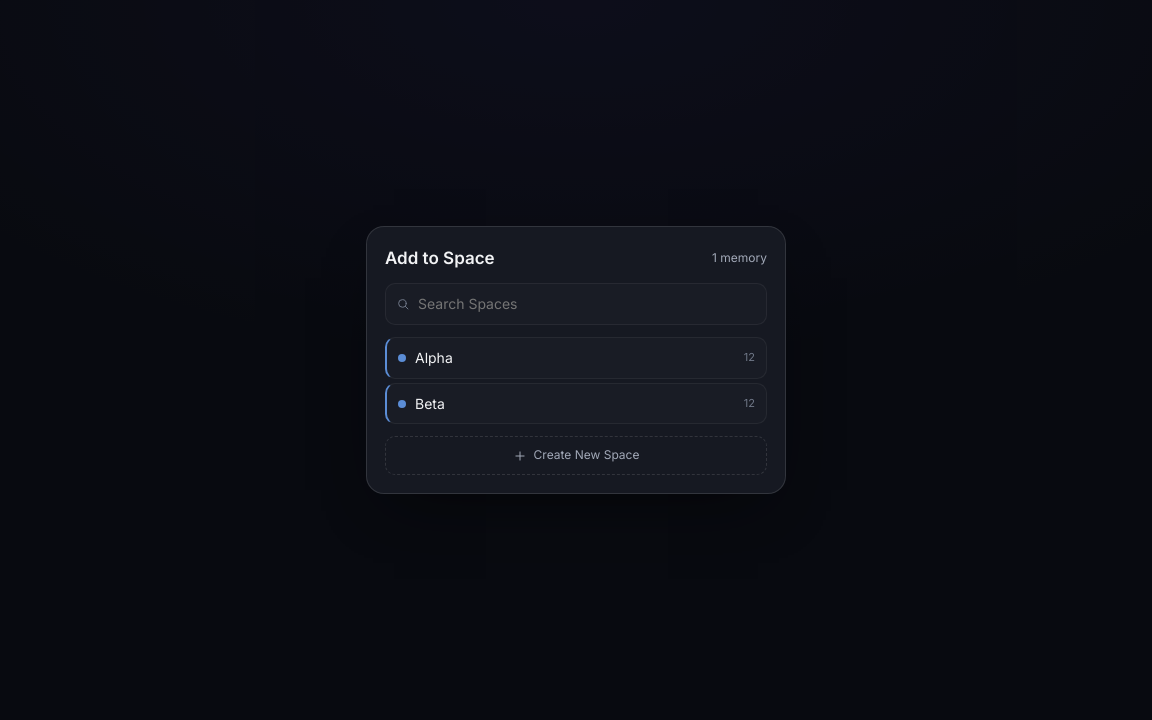
Test case: SpacePicker › filters the list as the user types
Check: the button with test id "space-picker-row-a" is shown, box [385, 337, 767, 379]
Type "bet" into the search field with test id "space-picker-search".
click(587, 304); type("bet")  # box [418, 284, 756, 324]
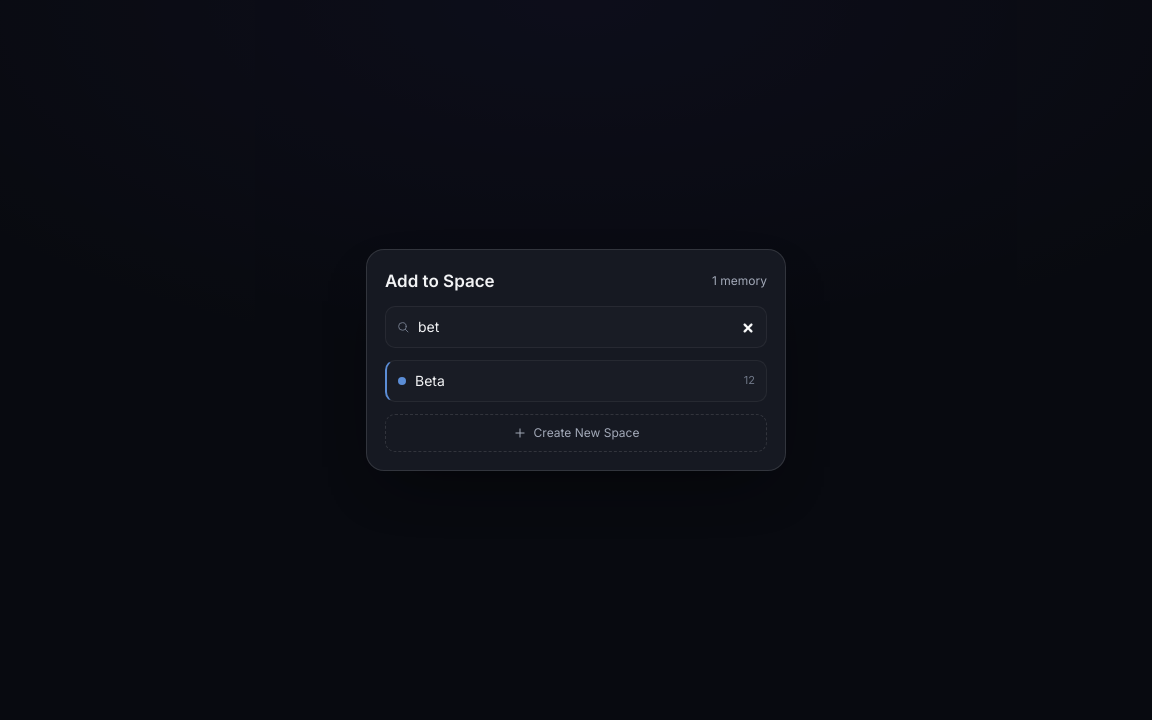
Check: the button with test id "space-picker-row-b" is shown, box [385, 360, 767, 402]
Check: the button with test id "space-picker-row-a" is gone
